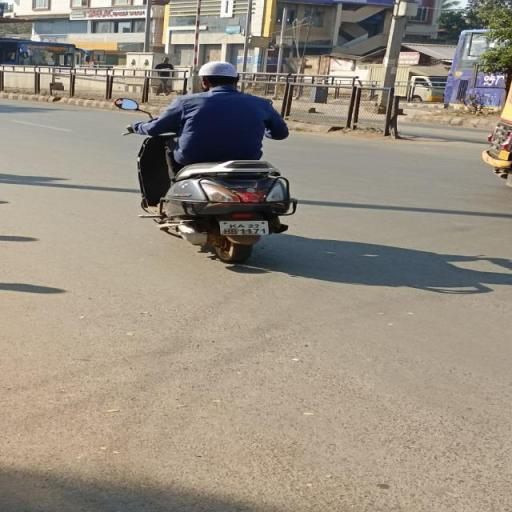bike: (108, 59, 308, 269)
numberplate: (222, 222, 268, 236)
withouthelmet: (199, 61, 237, 86)
